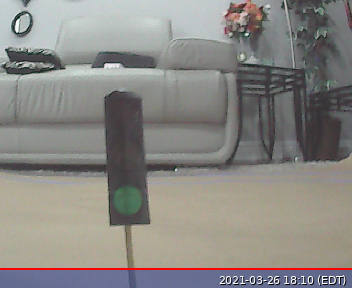Green Traffic Light: (101, 88, 153, 227)
